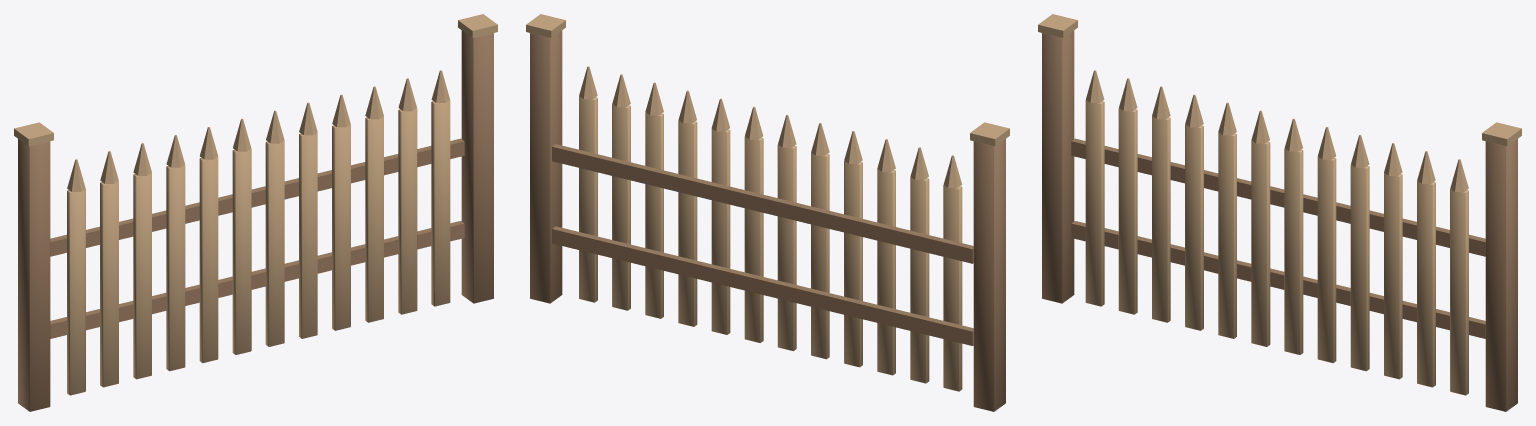
File: PicketFence.fbx
3 renders of one model, left to right at view 1: azimuth 30°, elevation 25°; view 2: azimuth 150°, elevation 25°; view 3: azimuth 330°, elevation 25°, orthographic.
Visible parts, largest first — view 1: LOD0; view 2: LOD0; view 3: LOD0.
Part boxes in pixels (left/top/right/bottom): LOD0: left=14, top=14, right=497, bottom=411; LOD0: left=526, top=14, right=1009, bottom=411; LOD0: left=1038, top=14, right=1521, bottom=411.
Size of what is drawn, in the model's own units: 203 by 114 by 11.
